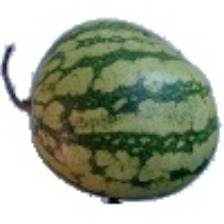watermelon: (32, 26, 217, 172)
